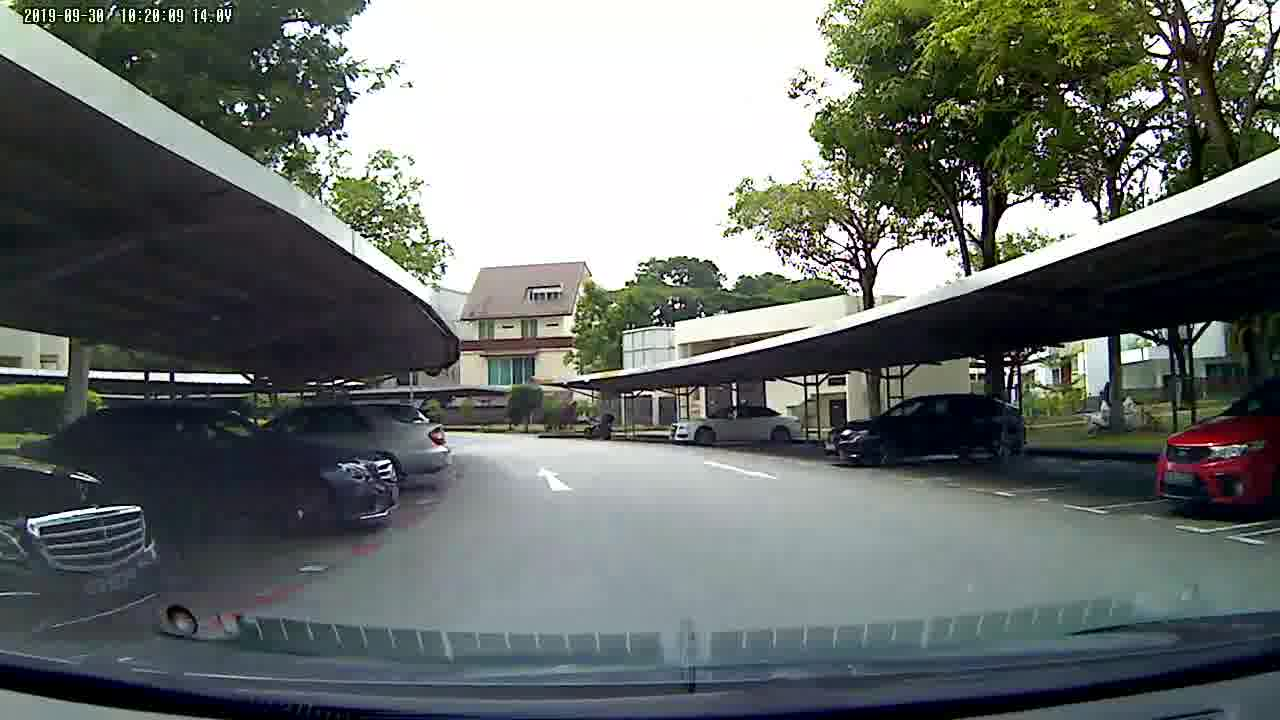car: (144, 382, 412, 540), (1, 450, 174, 612), (1138, 370, 1280, 503), (820, 390, 1034, 469), (661, 401, 812, 447)
